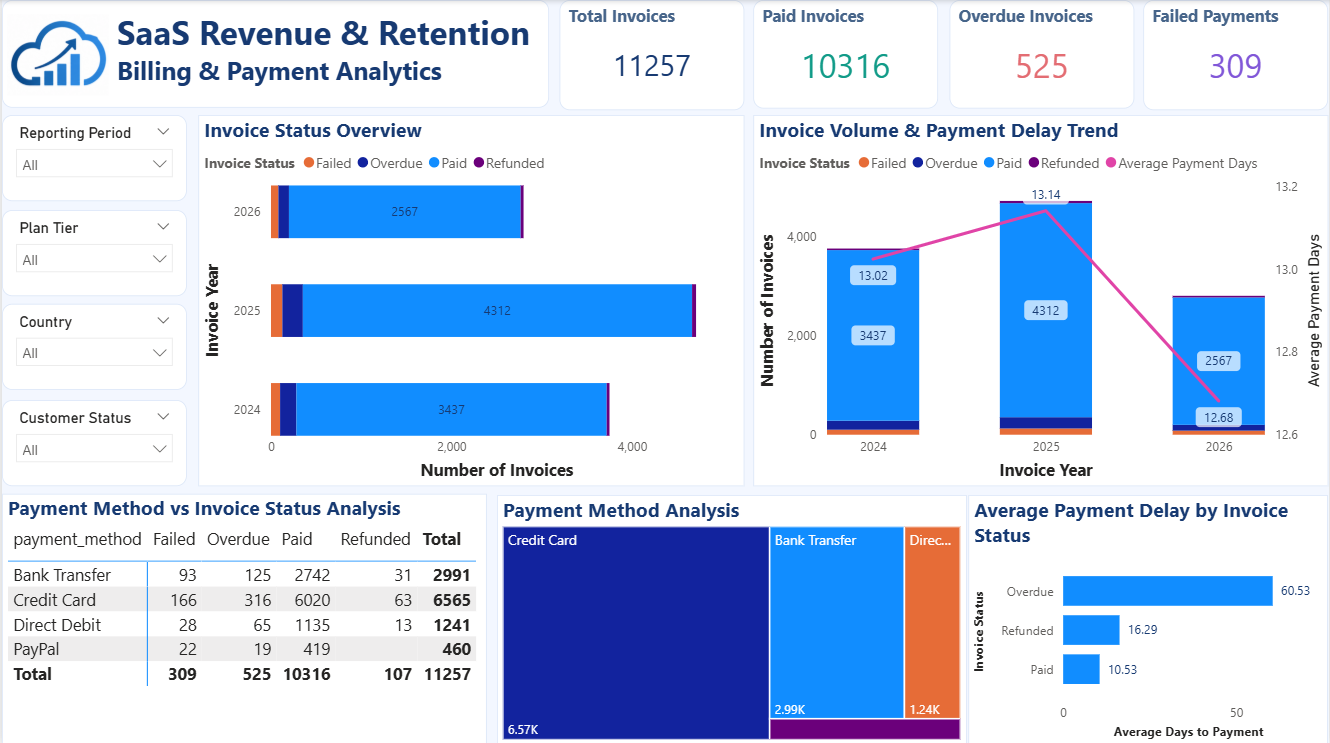

Layout of this report page (visuals, bound fields, positions):
{"tool":"powerbi","page":{"name":"Billing & Payment Analytics","canvas":[1280,720],"ordinal":3},"visuals":[{"type":"card","title":"Total Invoices","fields":{"Values":["customers.Total Invoices"]},"box":[538.1,0,178.6,106.2],"z":0},{"type":"card","title":"Paid Invoices","fields":{"Values":["customers.Paid Invoices"]},"box":[725.1,0,178.6,105],"z":1000},{"type":"card","title":"Overdue Invoices","fields":{"Values":["customers.Overdue Invoices"]},"box":[914.5,0,178.6,105],"z":2000},{"type":"card","title":"Failed Payments","fields":{"Values":["customers.Failed Payments"]},"box":[1101.4,0,178.6,106.2],"z":3000},{"type":"slicer","fields":{"Values":["subscription_months.period_month"]},"box":[0,111,178.6,83.2],"z":4000},{"type":"slicer","fields":{"Values":["plans.tier"]},"box":[0,202.7,178.6,83.2],"z":5000},{"type":"slicer","fields":{"Values":["customers.country"]},"box":[0,293.2,178.6,83.2],"z":6000},{"type":"slicer","fields":{"Values":["customers.customer_status"]},"box":[0,386.1,178.6,83.2],"z":7000},{"type":"image","box":[0,0,108.4,105.7],"z":8000},{"type":"textbox","box":[0,0,528.3,104.3],"z":9000},{"type":"image","box":[0,0,108.4,105.7],"z":10000},{"type":"treemap","title":"Payment Method Analysis","fields":{"Group":["invoices.payment_method"],"Values":["Count(invoices.invoice_id)"]},"box":[477.8,477.8,453.6,242.5],"z":11000},{"type":"pivotTable","title":"Payment Method vs Invoice Status Analysis","fields":{"Rows":["invoices.payment_method"],"Columns":["invoices.invoice_status"],"Values":["Count(invoices.invoice_id)"]},"box":[0,476.5,468.1,243.7],"z":12000},{"type":"clusteredBarChart","title":"Average Payment Delay by Invoice Status","fields":{"Category":["invoices.invoice_status"],"Y":["Avg(invoices.days_to_payment)"]},"box":[932.6,477.8,347.5,242.5],"z":13000},{"type":"barChart","title":"Invoice Status Overview","fields":{"Y":["Count(invoices.invoice_id)"],"Series":["invoices.invoice_status"],"Category":["invoices.invoice_month.Variation.Date Hierarchy.Year","invoices.invoice_month.Variation.Date Hierarchy.Month"]},"box":[189.4,111,527.2,358.3],"z":14000},{"type":"lineStackedColumnComboChart","title":"Invoice Volume & Payment Delay Trend","fields":{"Category":["invoices.invoice_month.Variation.Date Hierarchy.Year","invoices.invoice_month.Variation.Date Hierarchy.Quarter","invoices.invoice_month.Variation.Date Hierarchy.Month","invoices.invoice_month.Variation.Date Hierarchy.Day"],"Y":["Count(invoices.invoice_id)"],"Y2":["Avg(invoices.days_to_payment)"],"Series":["invoices.invoice_status"]},"box":[725.1,111,555,358.3],"z":15000}]}

Visuals, with their boxes in screenshot pixels (x1, y1, x2, y2), scaled from the page's 1280x720 canvas onto the 1330x743 screenshot:
"Total Invoices" card: 559, 0, 745, 110
"Paid Invoices" card: 753, 0, 939, 108
"Overdue Invoices" card: 950, 0, 1136, 108
"Failed Payments" card: 1144, 0, 1329, 110
slicer - subscription_months.period_month: 0, 115, 186, 200
slicer - plans.tier: 0, 209, 186, 295
slicer - customers.country: 0, 303, 186, 388
slicer - customers.customer_status: 0, 398, 186, 484
image: 0, 0, 113, 109
textbox: 0, 0, 549, 108
image: 0, 0, 113, 109
"Payment Method Analysis" treemap: 496, 493, 968, 742
"Payment Method vs Invoice Status Analysis" pivotTable: 0, 492, 486, 742
"Average Payment Delay by Invoice Status" clusteredBarChart: 969, 493, 1329, 742
"Invoice Status Overview" barChart: 197, 115, 745, 484
"Invoice Volume & Payment Delay Trend" lineStackedColumnComboChart: 753, 115, 1329, 484
